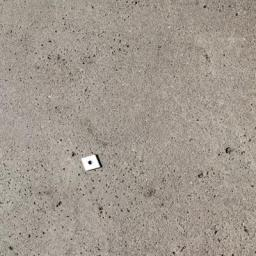FOD: (77, 151, 109, 174)
